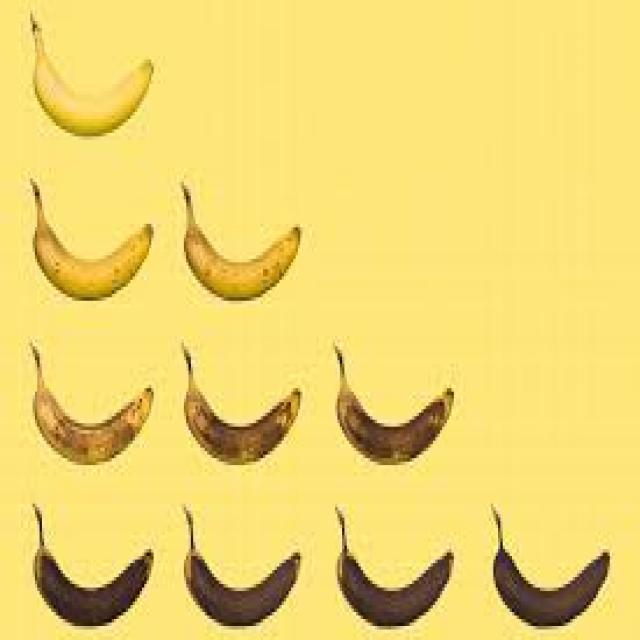Banana: (25, 336, 156, 480), (25, 497, 155, 635), (330, 339, 460, 473), (26, 15, 158, 146), (30, 174, 158, 304), (488, 499, 614, 628), (177, 181, 305, 307), (181, 502, 306, 630), (179, 344, 301, 473), (335, 504, 454, 632)
